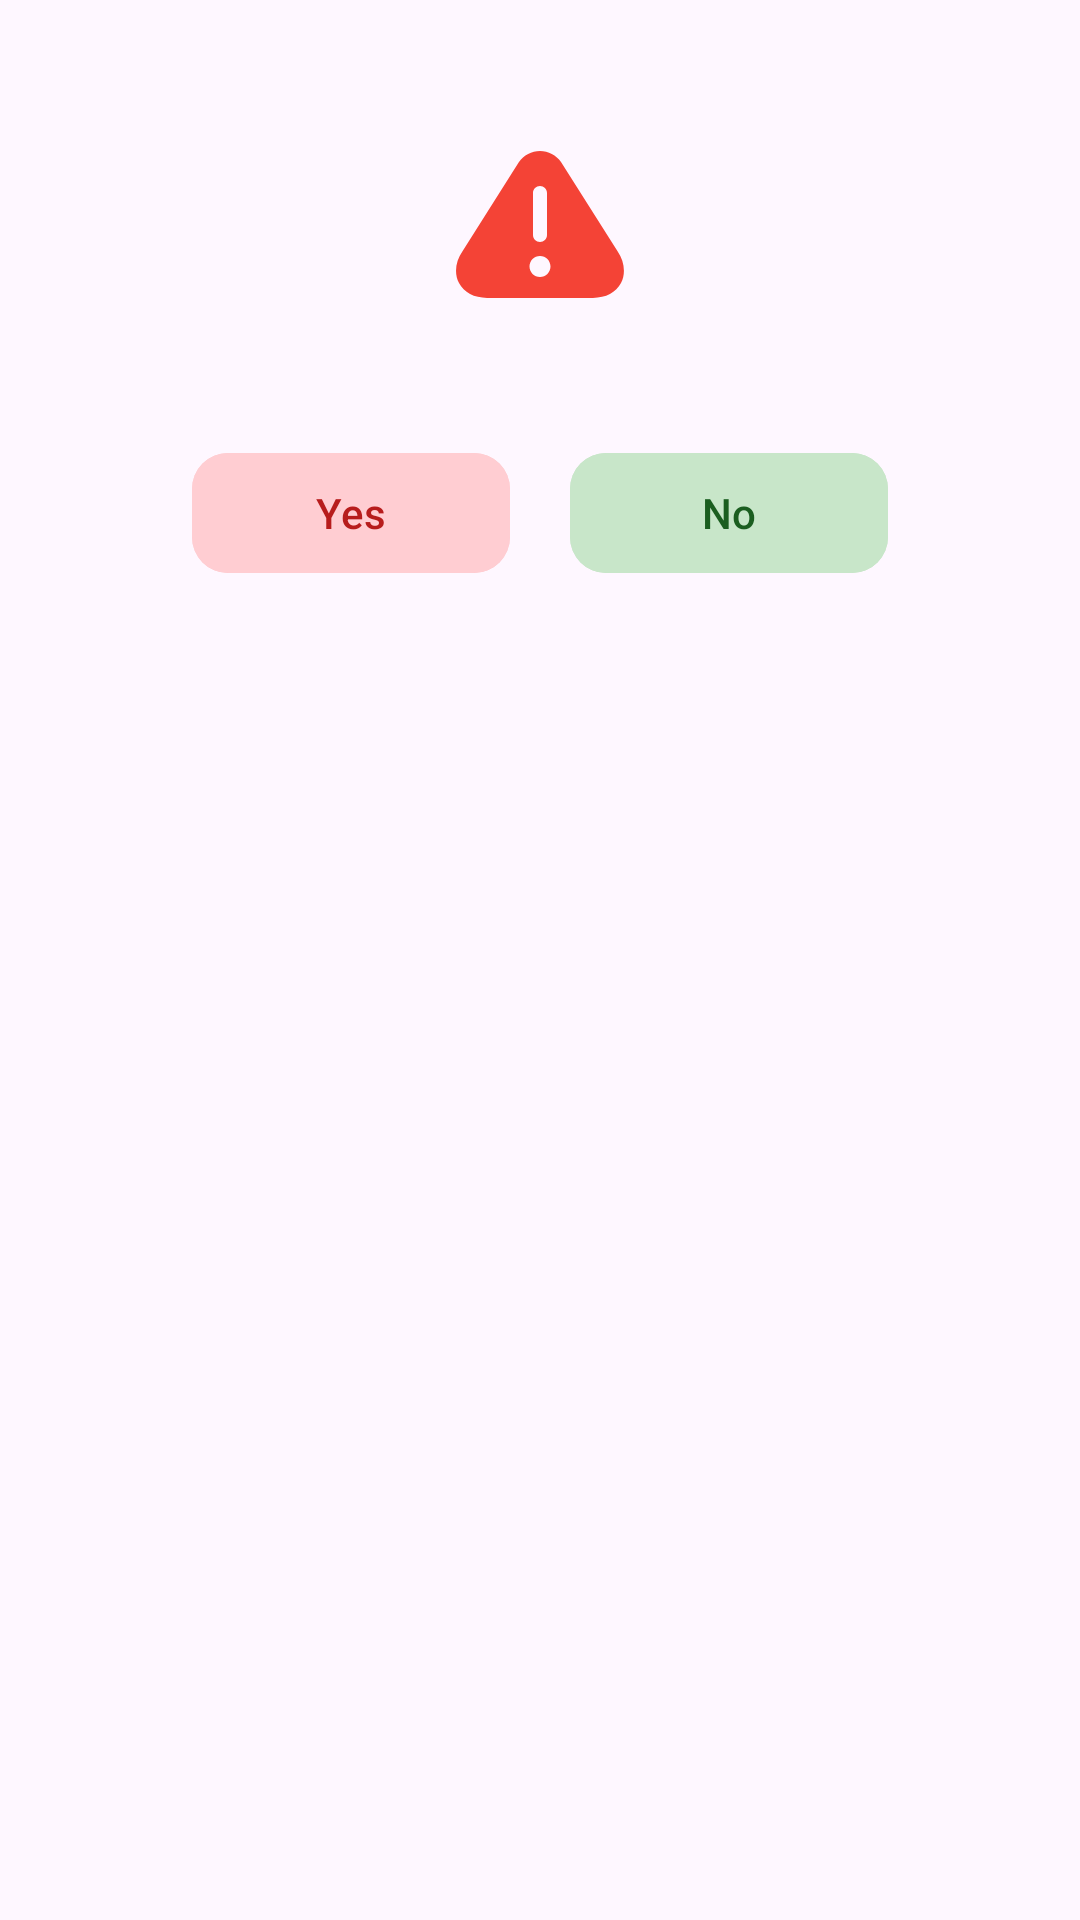

Icon bounding boxes for this 1080 × 1920 phone screenshot, format (x1, y1, x2, y2):
warning: (456, 151, 624, 298)
